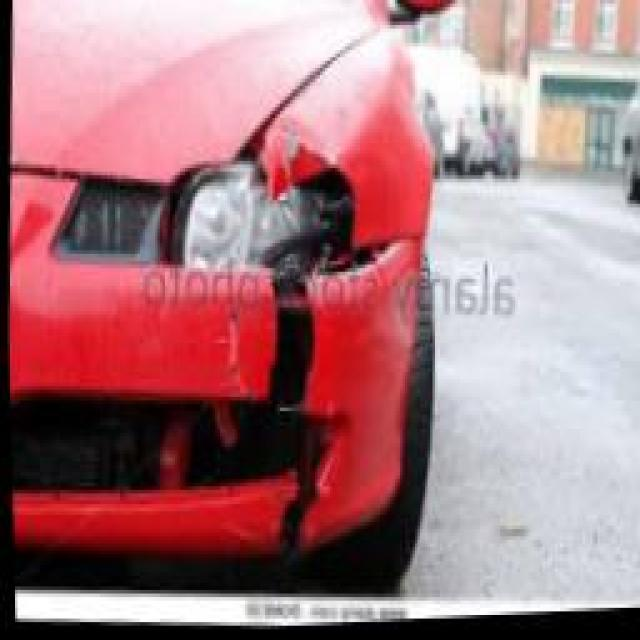Bumper: (210, 254, 418, 555)
Fender: (275, 57, 418, 217)
Light: (170, 172, 342, 279)
